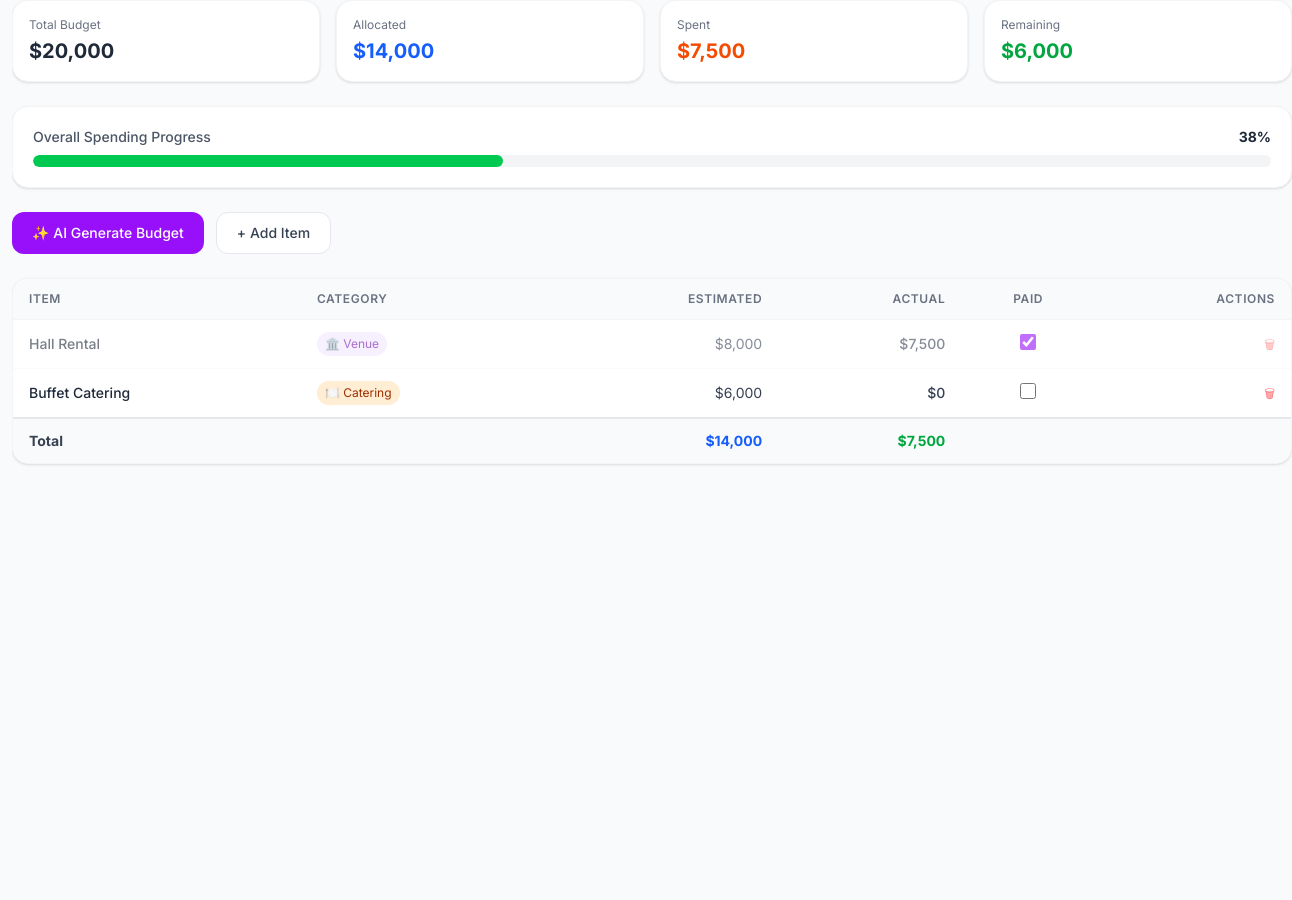
Test case: BudgetPanel component › allows opening and closing the add item form
The width and height of the screenshot is (1292, 900).
Click the button "+ Add Item" at x=273, y=233, box x1=216 y1=212 x2=331 y2=254
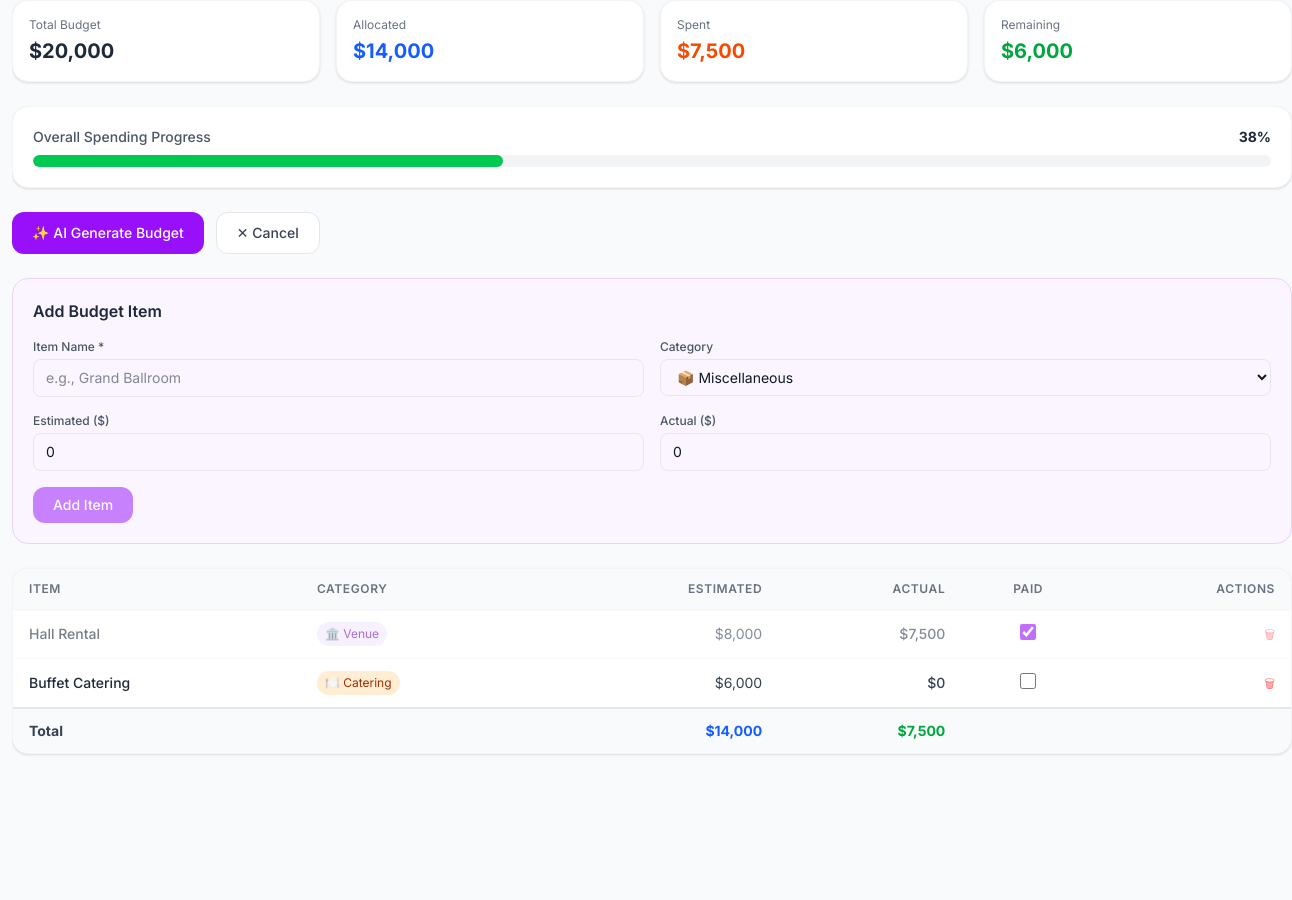
Result: the field labelled "Item Name *" is shown at x1=33 y1=359 x2=644 y2=397
Click the button "✕ Cancel" at x=268, y=233, box x1=216 y1=212 x2=320 y2=254
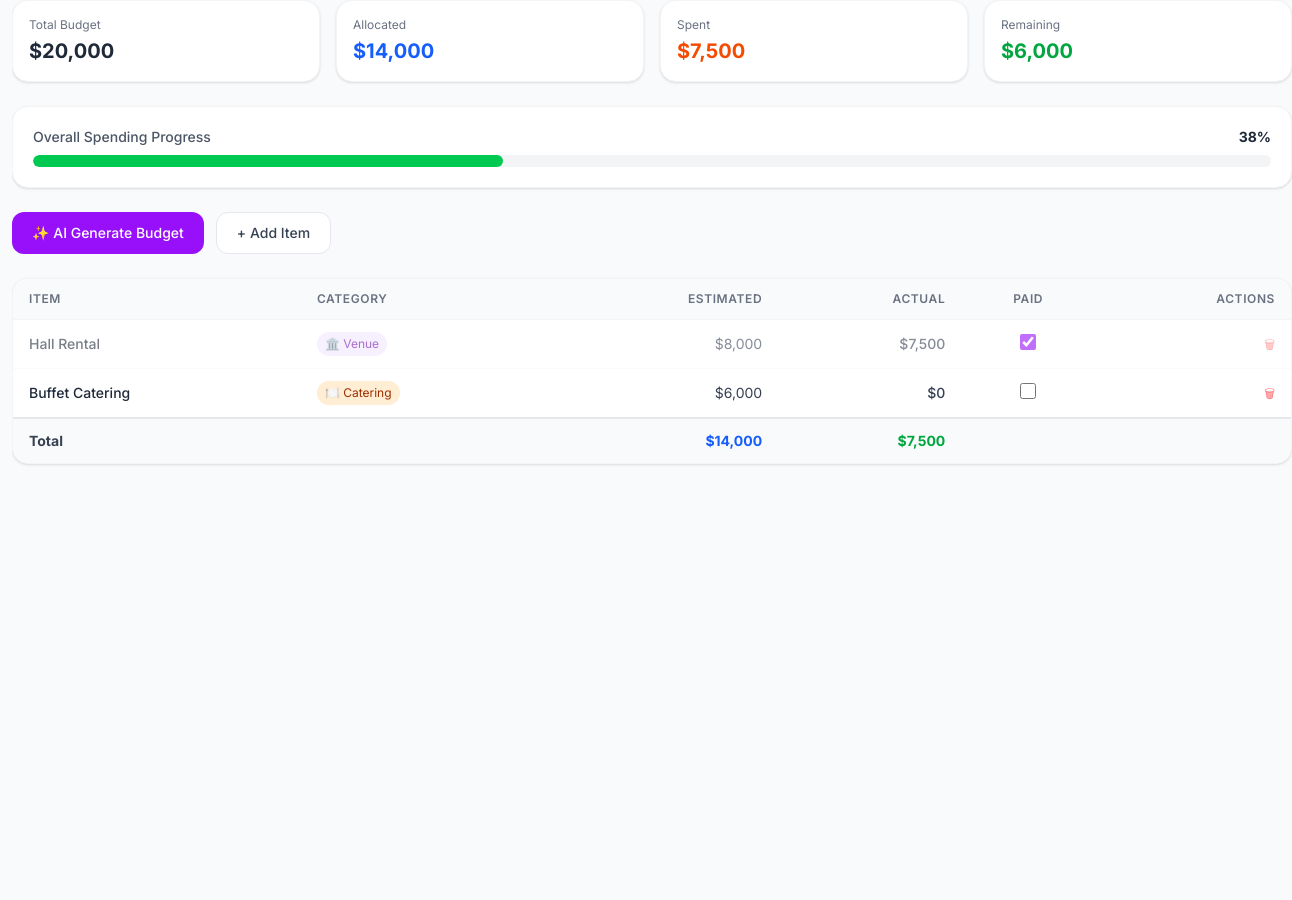
Result: the label labelled "Item Name" is gone
